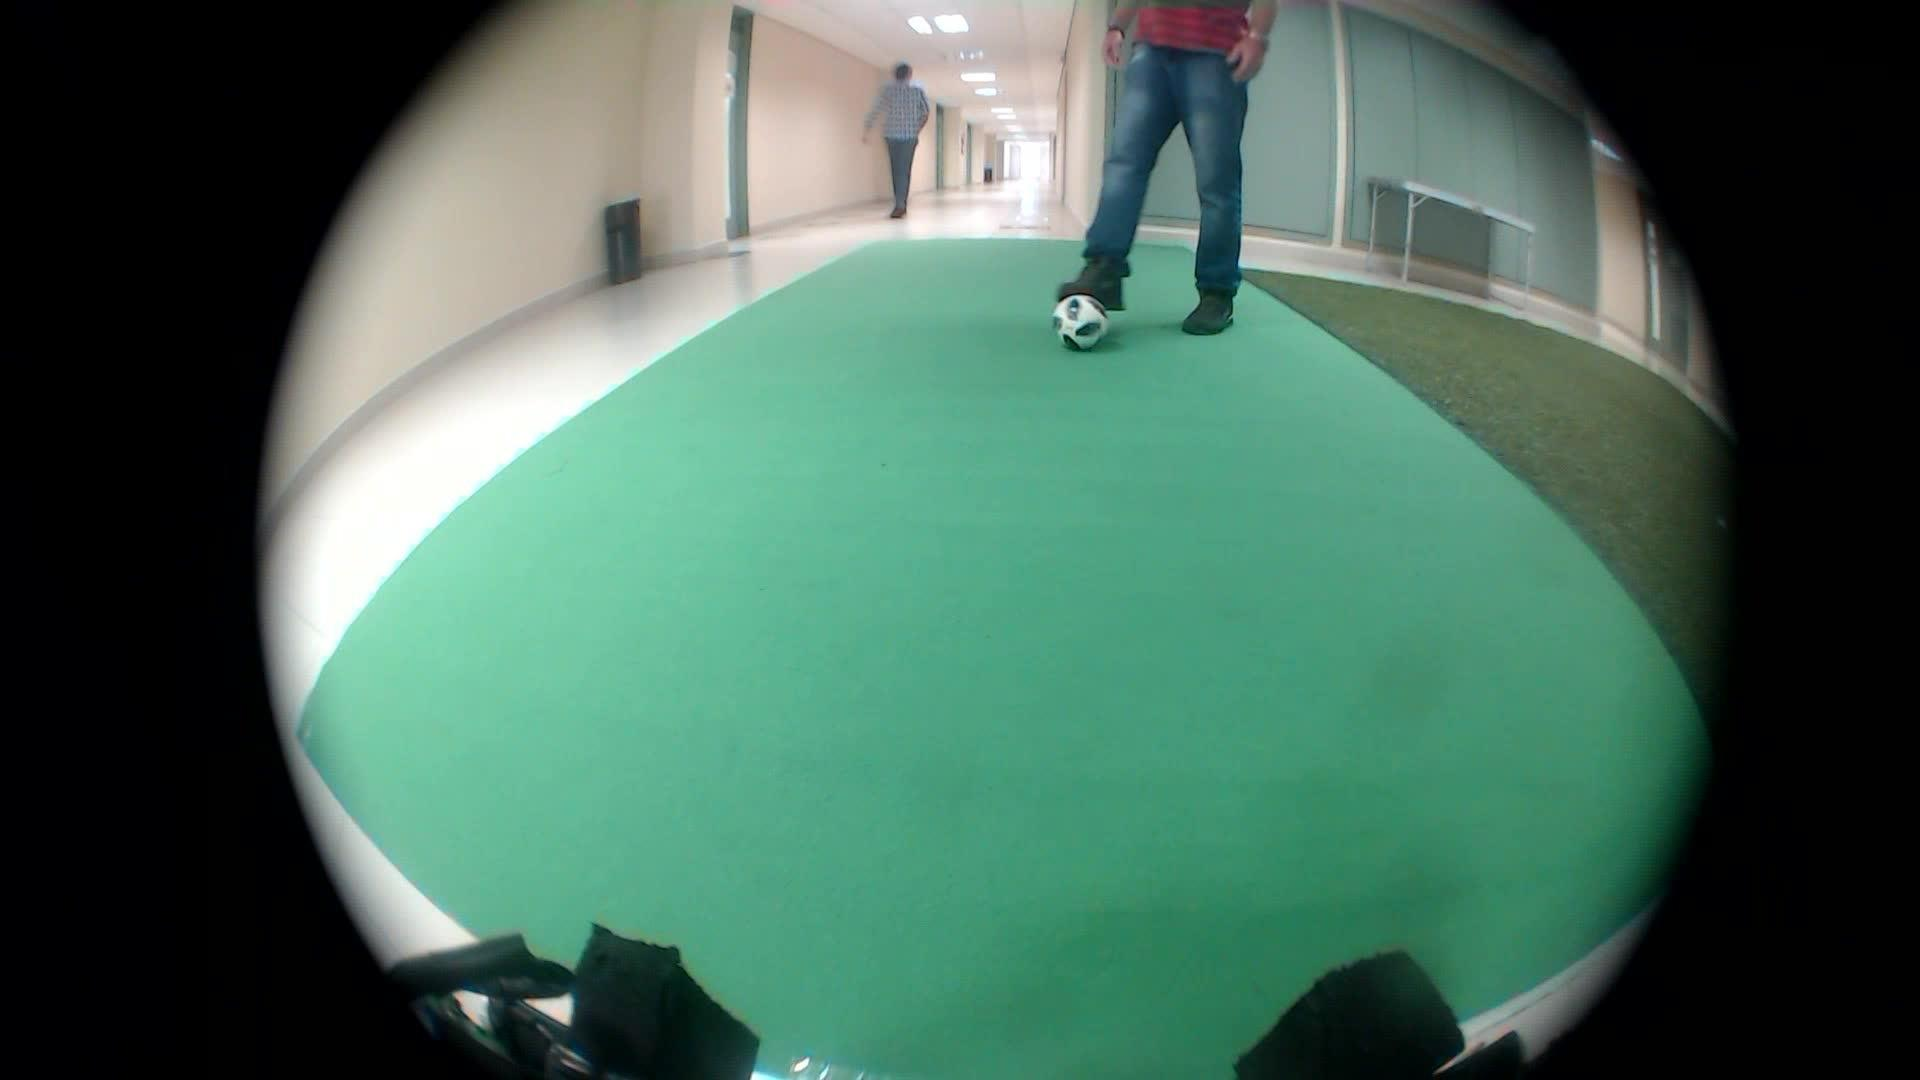ball: (1043, 289, 1125, 360)
